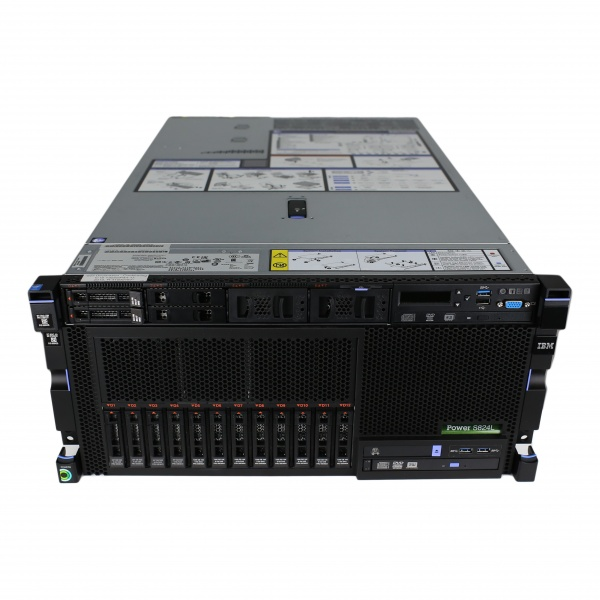ibm-server: (21, 110, 563, 490), (19, 267, 579, 492)
